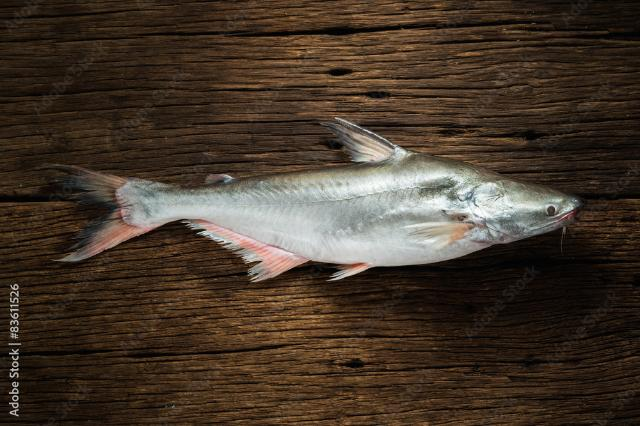Mulut: (540, 191, 590, 235)
Sirip Anal: (182, 212, 312, 288)
Sirip Dada: (397, 212, 477, 262)
Sirip Ekor: (26, 150, 140, 272)
Sirip Perut: (324, 257, 376, 290)
Sirip Punggung: (322, 111, 400, 175)
